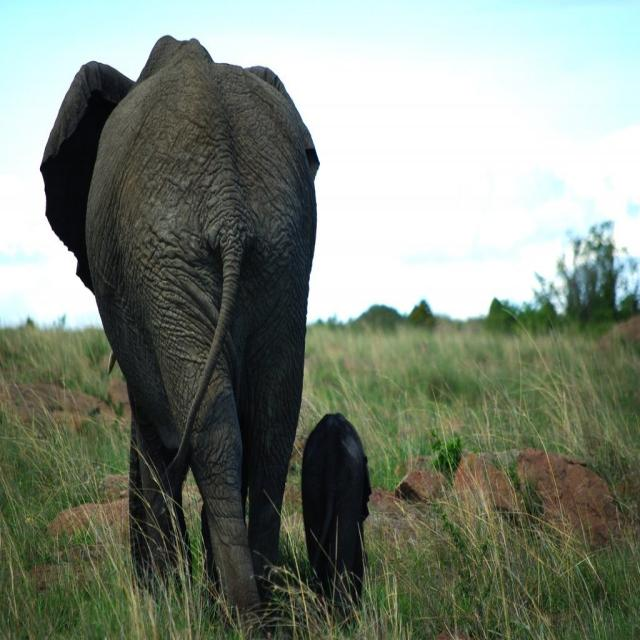elephant: (46, 32, 318, 622), (299, 411, 372, 639)
